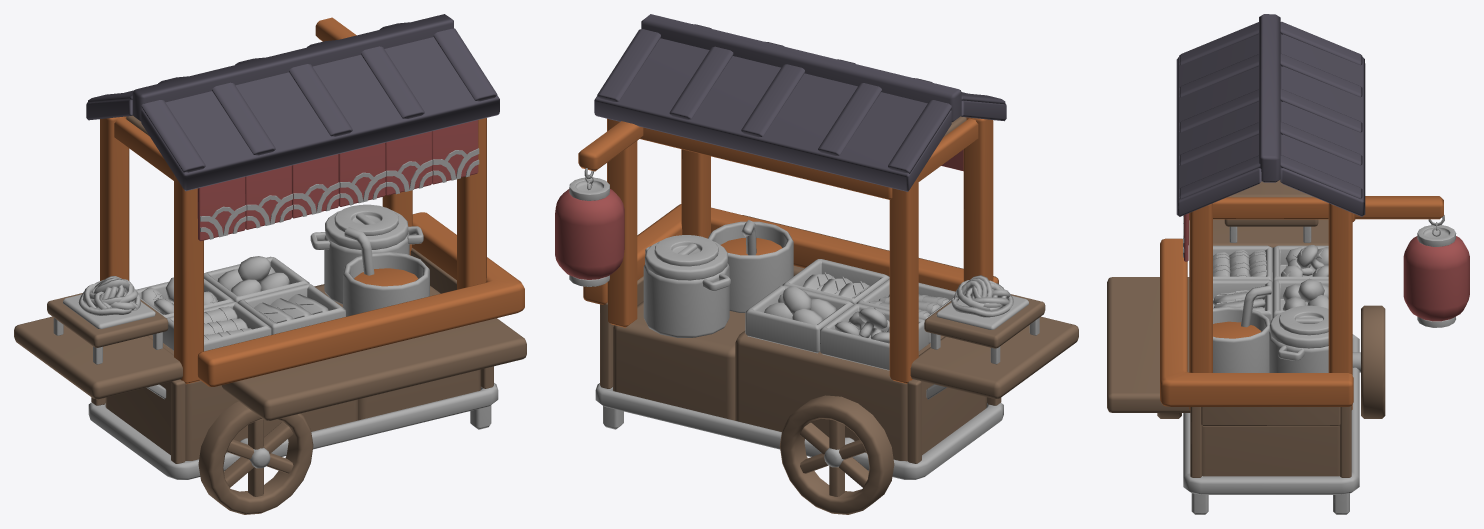
Rendered from Ramen_Stall02.fbx.
3 renders of one model, left to right at view 1: azimuth 30°, elevation 25°; view 2: azimuth 150°, elevation 25°; view 3: azimuth 270°, elevation 25°, orthographic. The views are drawn at different scales.
Parts seen in each view (by area): view 1: S_Ramen_Stall8, S_Ramen_Stall20, M_Ramen_Stall2, S_Ramen_Stall33, S_Ramen_Stall35, M_Ramen_Stall19, M_Ramen_Stall4, S_Ramen_Stall21, M_Ramen_Stall5, M_Ramen_Stall8, M_Ramen_Stall7, S_Ramen_Stall36 (+27 smaller); view 2: S_Ramen_Stall16, S_Ramen_Stall35, S_Ramen_Stall36, S_Ramen_Stall34, M_Ramen_Stall19, M_Ramen_Stall4, S_Ramen_Stall20, S_Ramen_Stall21, M_Ramen_Stall8, M_Ramen_Stall25, M_Ramen_Stall11, M_Ramen_Stall5 (+23 smaller); view 3: S_Ramen_Stall36, S_Ramen_Stall20, S_Ramen_Stall16, S_Ramen_Stall8, M_Ramen_Stall2, M_Ramen_Stall25, S_Ramen_Stall21, M_Ramen_Stall3, M_Ramen_Stall7, M_Ramen_Stall4, S_Ramen_Stall27, S_Ramen_Stall34 (+26 smaller).
Part boxes in pixels (x1,y1,x2,y2): S_Ramen_Stall8: [141, 37, 499, 191]; S_Ramen_Stall20: [197, 212, 524, 386]; M_Ramen_Stall2: [221, 318, 526, 420]; S_Ramen_Stall33: [198, 401, 313, 514]; S_Ramen_Stall35: [91, 335, 357, 463]; M_Ramen_Stall19: [14, 316, 182, 399]; M_Ramen_Stall4: [132, 14, 453, 121]; S_Ramen_Stall21: [88, 383, 498, 479]; M_Ramen_Stall5: [174, 174, 203, 384]; M_Ramen_Stall8: [100, 116, 129, 280]; M_Ramen_Stall7: [457, 118, 486, 289]; S_Ramen_Stall36: [314, 248, 493, 420]; S_Ramen_Stall16: [594, 38, 951, 191]; S_Ramen_Stall35: [735, 330, 1001, 463]; S_Ramen_Stall36: [600, 276, 745, 420]; S_Ramen_Stall34: [779, 395, 894, 514]; M_Ramen_Stall19: [910, 316, 1078, 398]; M_Ramen_Stall4: [641, 14, 961, 122]; S_Ramen_Stall20: [583, 204, 998, 304]; S_Ramen_Stall21: [595, 383, 1003, 479]; M_Ramen_Stall8: [889, 176, 918, 383]; M_Ramen_Stall25: [555, 189, 624, 279]; M_Ramen_Stall11: [643, 263, 729, 337]; M_Ramen_Stall5: [963, 117, 993, 281]; S_Ramen_Stall36: [1190, 406, 1351, 477]; S_Ramen_Stall20: [1160, 238, 1353, 406]; S_Ramen_Stall16: [1280, 33, 1365, 216]; S_Ramen_Stall8: [1176, 34, 1261, 216]; M_Ramen_Stall2: [1107, 277, 1190, 412]; M_Ramen_Stall25: [1403, 236, 1469, 321]; S_Ramen_Stall21: [1183, 334, 1359, 494]; M_Ramen_Stall3: [1328, 203, 1352, 409]; M_Ramen_Stall7: [1189, 203, 1212, 409]; M_Ramen_Stall4: [1259, 14, 1280, 182]; S_Ramen_Stall27: [1213, 306, 1270, 372]; S_Ramen_Stall34: [1361, 305, 1385, 418].
Bounding box in the file's own units: 617 × 560 × 496.
